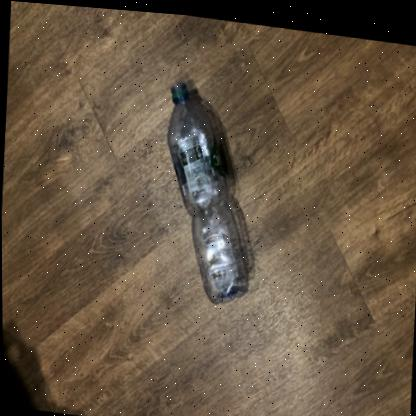Plastic: (167, 78, 247, 299)
